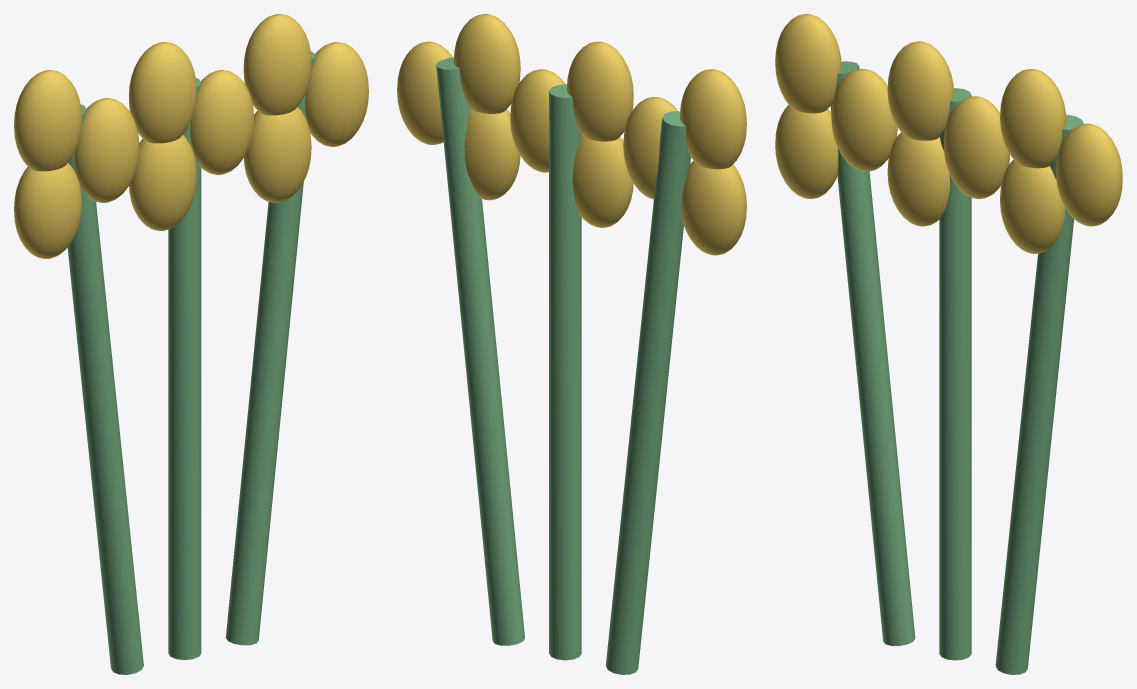
File: conch_ox_rice_Idle.glb
The picture shows the model from 3 angles, left to right: view 1: azimuth 30°, elevation 25°; view 2: azimuth 150°, elevation 25°; view 3: azimuth 330°, elevation 25°; orthographic projection. The views are drawn at different scales.
Size of the model in its own units: 6.1 by 10.38 by 0.85.
